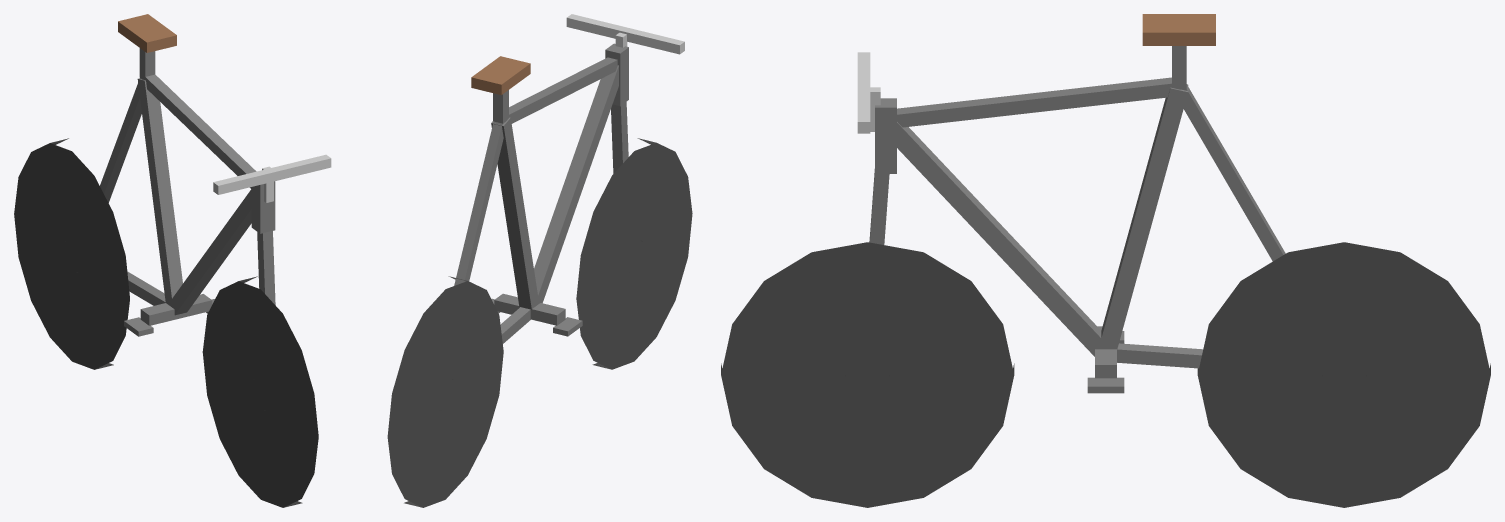
File: bicycle.gltf
3 views of the same model, side by side, from view 1: azimuth 30°, elevation 25°; view 2: azimuth 150°, elevation 25°; view 3: azimuth 270°, elevation 25° (orthographic). The views are drawn at different scales.
Parts seen in each view (by area): view 1: Bicycle; view 2: Bicycle; view 3: Bicycle.
Part boxes in pixels (x1=…): Bicycle: x1=14, y1=14, x2=331, y2=507; Bicycle: x1=387, y1=14, x2=692, y2=507; Bicycle: x1=721, y1=14, x2=1490, y2=507.
Bounding box in the file's own units: 0.45 × 1.44 × 2.1.
